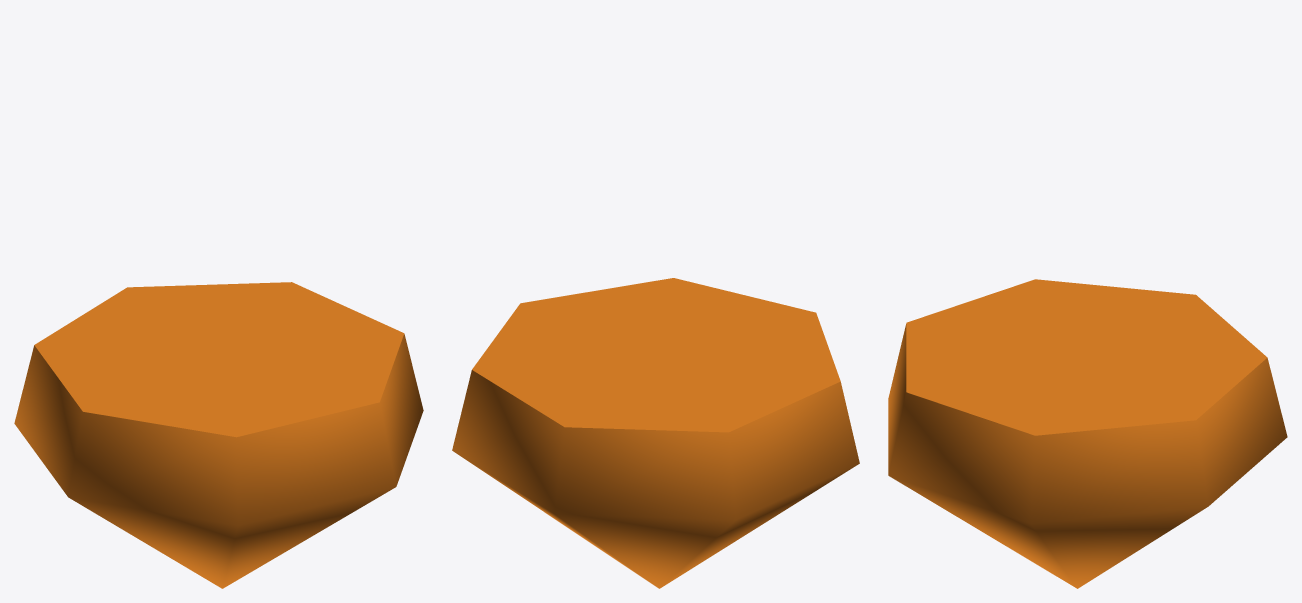
The model's file is Char_CR_SlimePotion.FBX.
The picture shows the model from 3 angles, left to right: view 1: azimuth 30°, elevation 25°; view 2: azimuth 150°, elevation 25°; view 3: azimuth 270°, elevation 25°; orthographic projection.
Parts seen in each view (by area): view 1: Sphere008; view 2: Sphere008; view 3: Sphere008.
Boxes of the visible parts, x1,y1,x2,y2 form: Sphere008: (14,282,423,588); Sphere008: (452,278,859,588); Sphere008: (888,279,1287,588).
Bounding box in the file's own units: 11.71 × 17.22 × 11.41.
